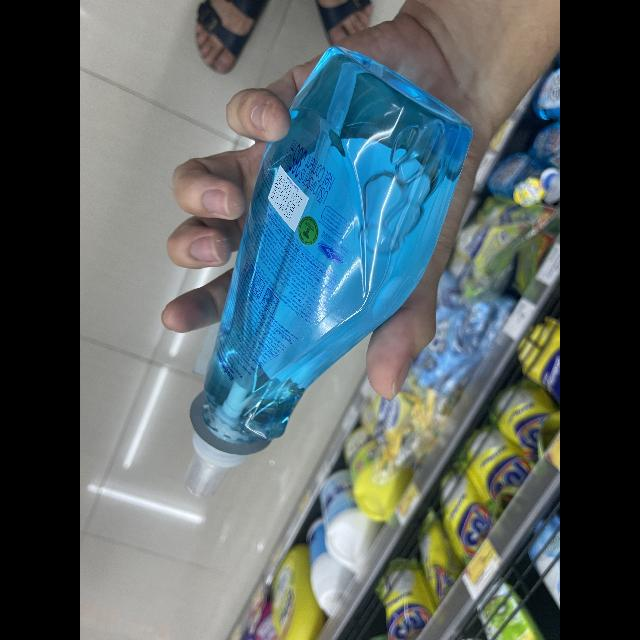chemical_plastic_bottle: (179, 44, 477, 500)
